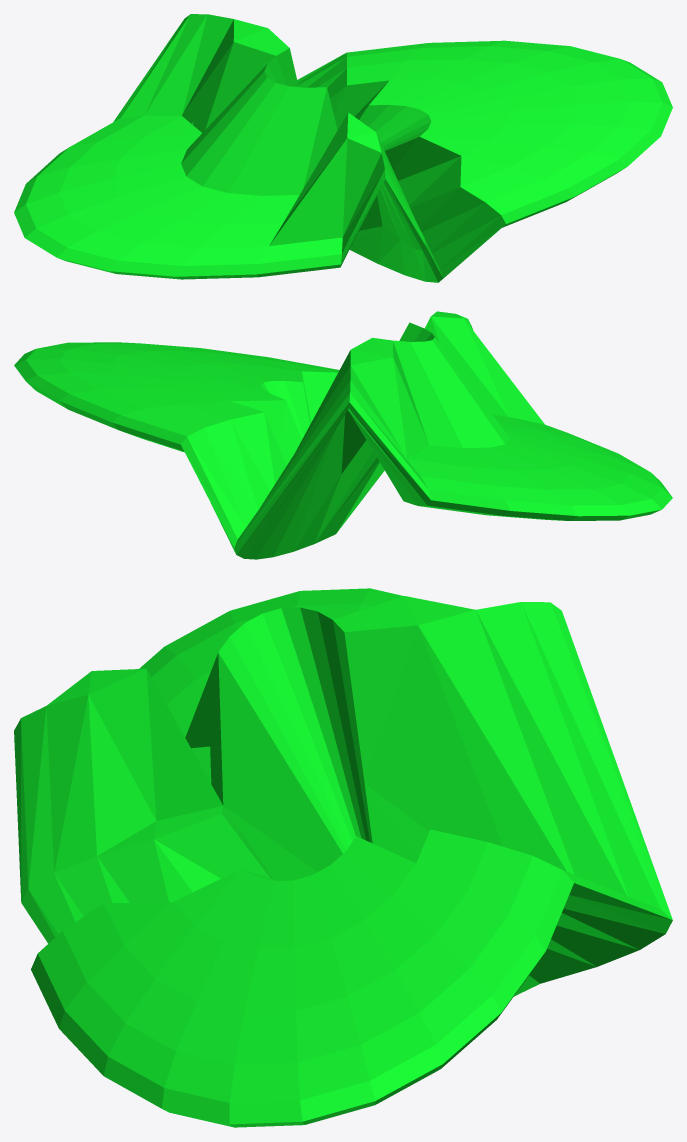
Rendered from hat_1__Object_4.glb.
3 renders of one model, top to bottom at view 1: azimuth 30°, elevation 25°; view 2: azimuth 150°, elevation 25°; view 3: azimuth 270°, elevation 25°, orthographic. The views are drawn at different scales.
Visible parts, largest first — view 1: geometry_0; view 2: geometry_0; view 3: geometry_0.
Boxes of the visible parts, left/top/right/bottom form: geometry_0: left=14, top=14, right=672, bottom=282; geometry_0: left=14, top=311, right=672, bottom=559; geometry_0: left=14, top=588, right=672, bottom=1127.
Size of the model in its own units: 0.7907 by 0.2598 by 0.4174.
